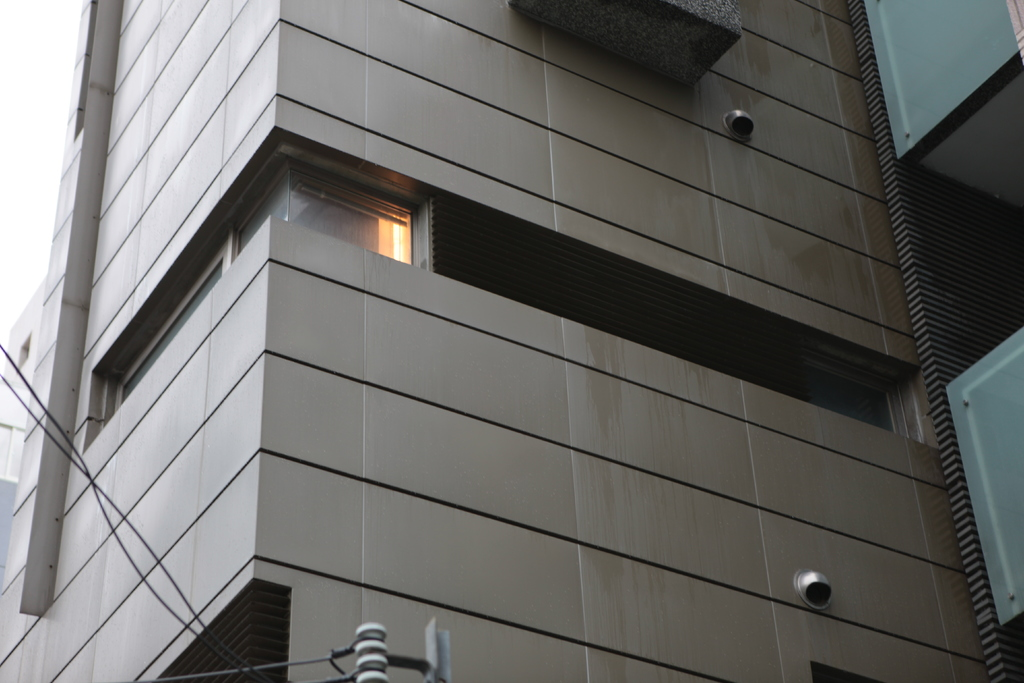Window: (85, 177, 403, 398)
